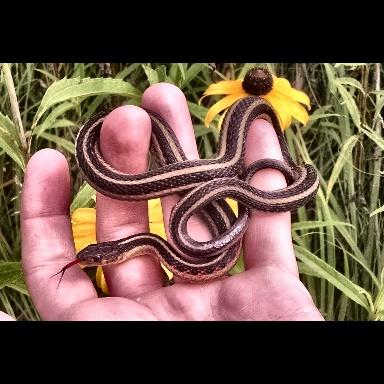snake: (76, 87, 321, 287)
